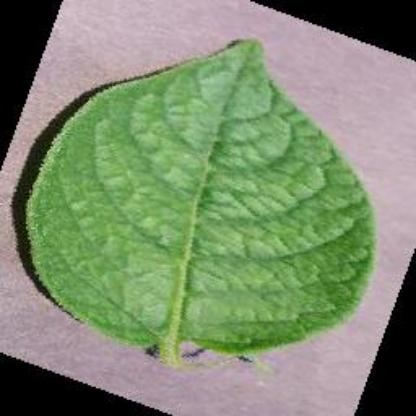Healthy-plant: (28, 32, 400, 374)
